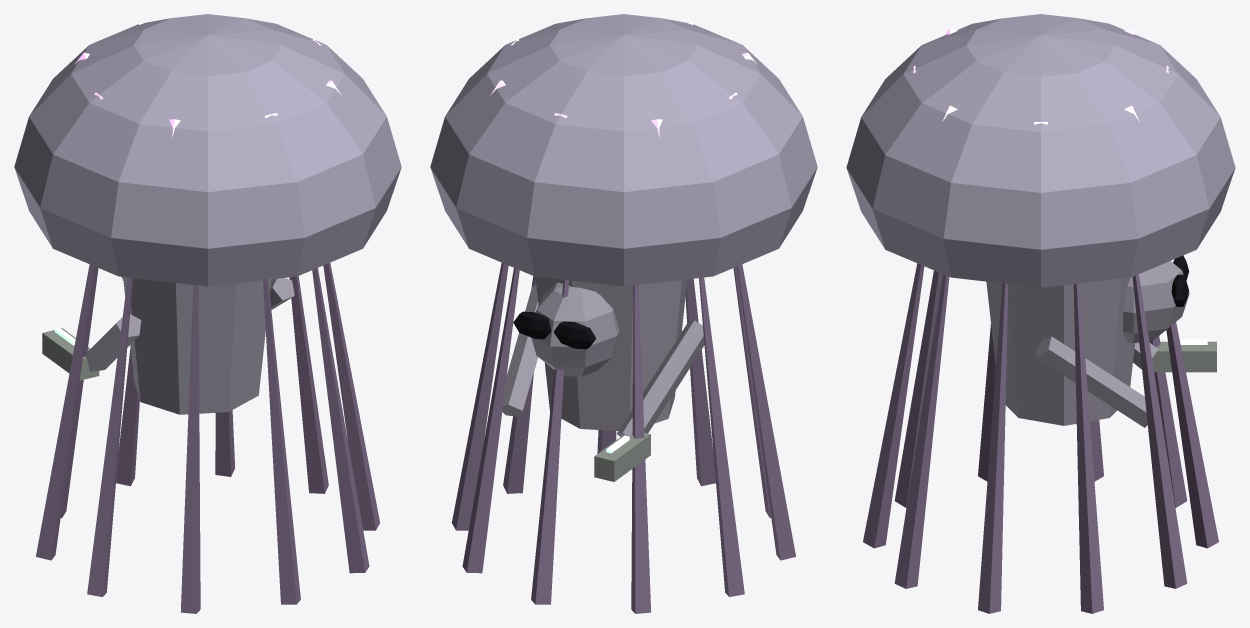
Rendered from meduza.glb.
3 renders of one model, left to right at view 1: azimuth 30°, elevation 25°; view 2: azimuth 150°, elevation 25°; view 3: azimuth 270°, elevation 25°, orthographic.
Parts seen in each view (by area): view 1: Bell, Tendrils, Body; view 2: Bell, Tendrils, Body; view 3: Bell, Tendrils, Body.
Boxes of the visible parts, x1,y1,x2,y2 form: Bell: (14,14,401,286); Tendrils: (36,263,379,613); Body: (42,276,294,414); Bell: (430,14,817,286); Tendrils: (452,263,795,613); Body: (500,276,704,481); Bell: (846,14,1235,287); Tendrils: (863,263,1218,613); Body: (986,255,1216,427).
Size of the model in its own units: 0.84 by 1.21 by 0.84.
